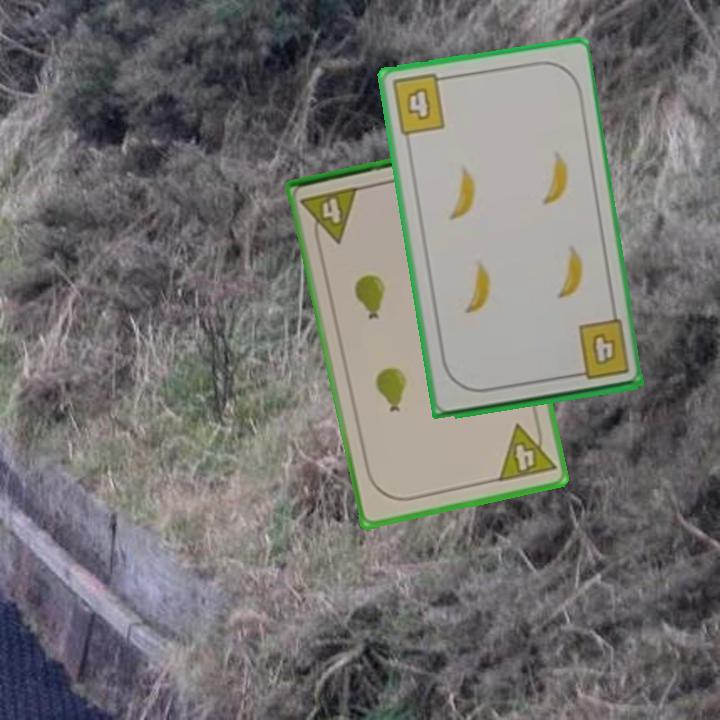4b: (387, 71, 452, 138), (567, 316, 632, 383)
4p: (494, 416, 559, 485), (298, 183, 362, 249)
